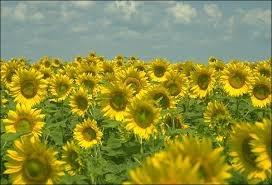field: (0, 53, 271, 183)
